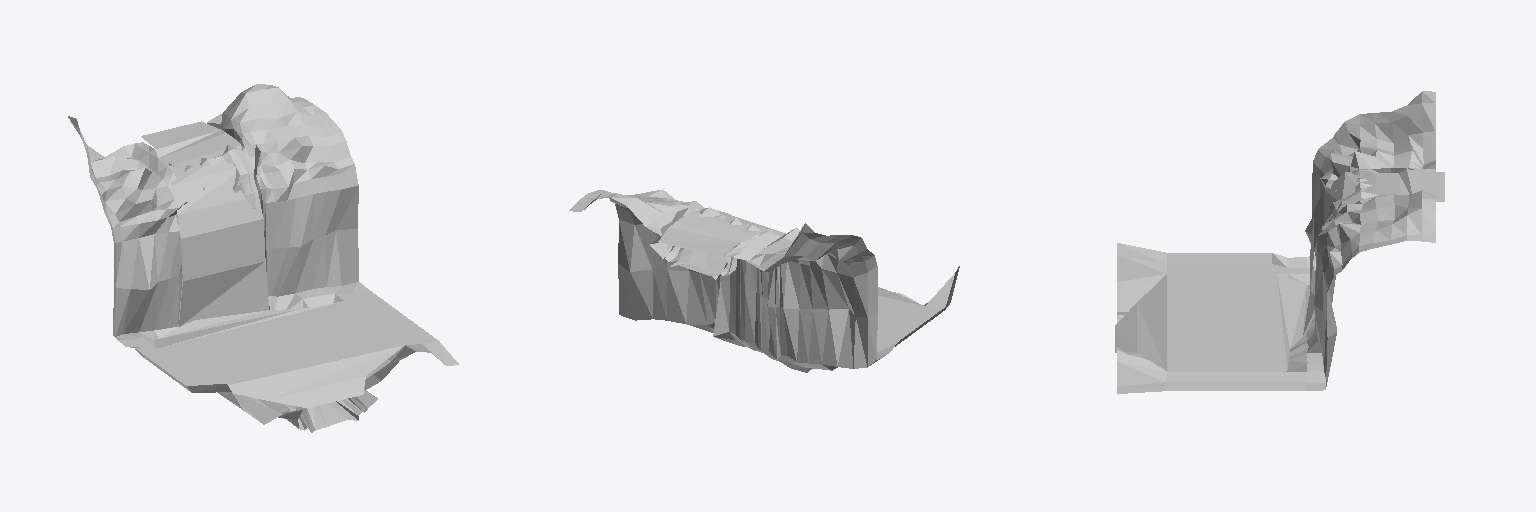
The model's file is Waterfall+water.obj.
3 views of the same model, side by side, from view 1: azimuth 30°, elevation 25°; view 2: azimuth 150°, elevation 25°; view 3: azimuth 270°, elevation 25° (orthographic).
Bounding box in the file's own units: 85.04 × 72.1 × 96.25.